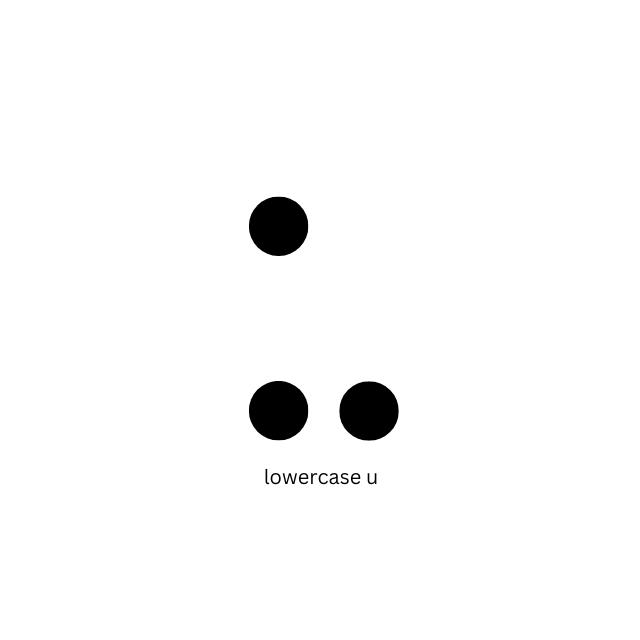letter_u: (248, 195, 399, 442)
